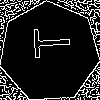T: (24, 27, 71, 59)
